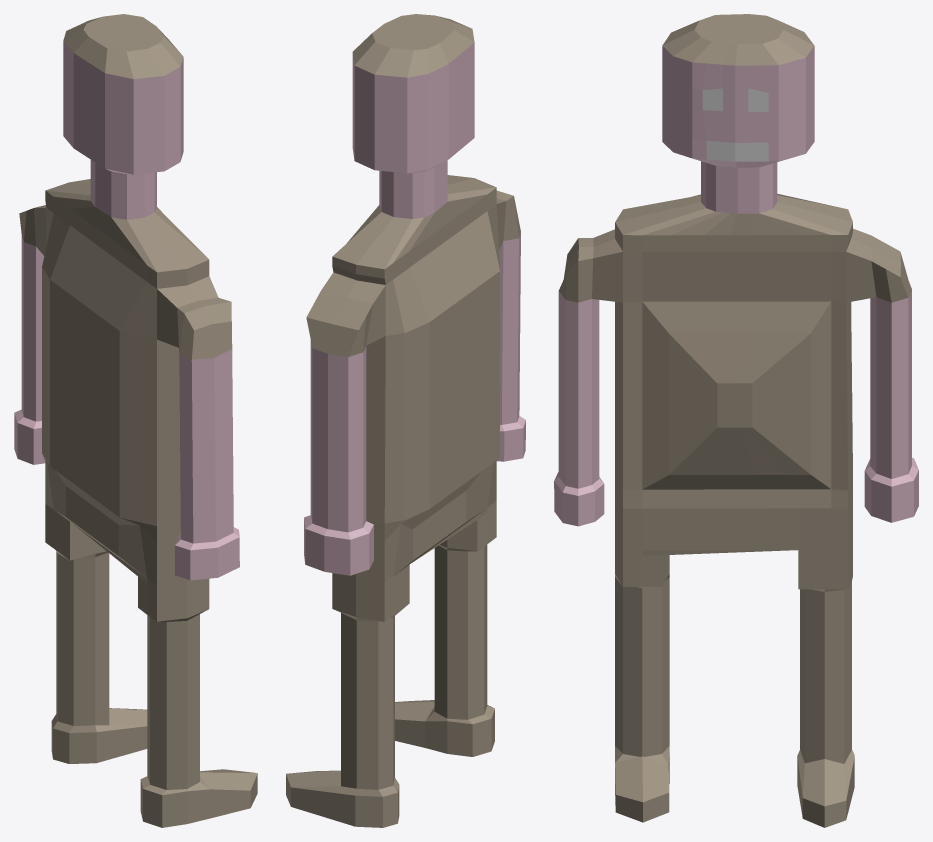
Rendered from SpielerGut.fbx.
3 views of the same model, side by side, from view 1: azimuth 30°, elevation 25°; view 2: azimuth 150°, elevation 25°; view 3: azimuth 270°, elevation 25° (orthographic).
Visible parts, largest first — view 1: Cylinder; view 2: Cylinder; view 3: Cylinder.
Part boxes in pixels (x1,y1,x2,y2): Cylinder: (14,14,257,827); Cylinder: (286,14,525,827); Cylinder: (554,14,918,827).
Size of the model in its own units: 557 by 3053 by 1333.
